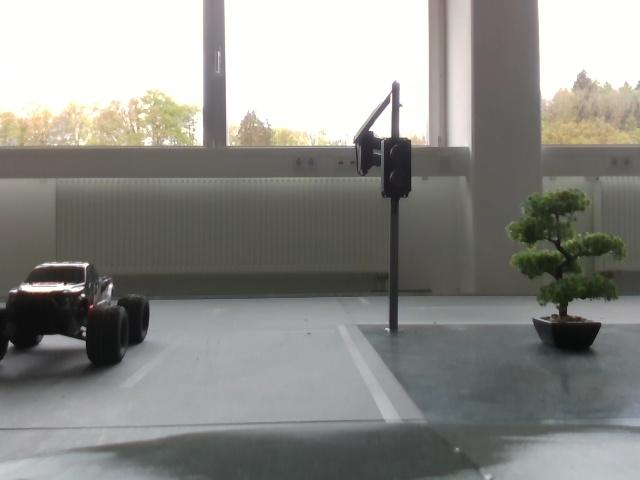car: (1, 257, 153, 370)
potted plant: (510, 191, 626, 347)
traffic light: (382, 138, 415, 201), (353, 130, 387, 174)
